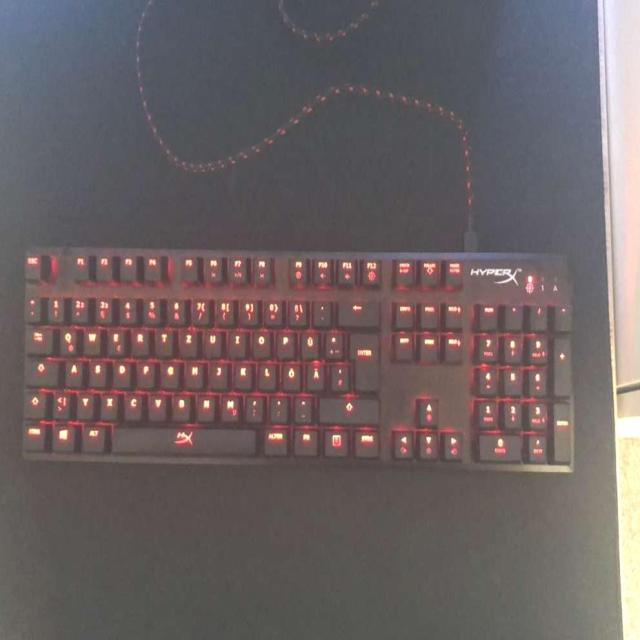0: (262, 294, 283, 324)
1: (45, 292, 63, 320)
2: (68, 292, 87, 321)
3: (93, 293, 111, 321)
4: (117, 293, 136, 321)
5: (141, 293, 160, 322)
6: (165, 293, 185, 322)
7: (189, 294, 210, 323)
8: (213, 295, 234, 323)
9: (237, 295, 257, 323)
a: (63, 356, 82, 385)
accent: (311, 296, 330, 324)
ae: (305, 358, 323, 388)
alt-left: (79, 420, 105, 449)
altgr-right: (261, 424, 287, 454)
b: (170, 389, 190, 418)
c: (122, 388, 141, 418)
caret: (23, 294, 39, 319)
comma: (243, 391, 263, 421)
d: (111, 357, 130, 386)
del: (336, 294, 378, 324)
e: (104, 323, 124, 354)
enter: (348, 329, 377, 389)
f: (135, 357, 153, 385)
g: (159, 357, 178, 385)
h: (183, 357, 203, 386)
hash: (328, 360, 347, 389)
i: (226, 326, 246, 354)
j: (207, 357, 227, 386)
k: (232, 358, 252, 386)
keyboard: (13, 244, 581, 474)
l: (256, 359, 275, 388)
less: (51, 387, 71, 416)
m: (219, 390, 239, 420)
minus: (292, 391, 311, 420)
n: (194, 390, 215, 419)
o: (250, 326, 270, 355)
oe: (280, 360, 300, 388)
p: (274, 327, 294, 356)
plus: (323, 327, 341, 356)
point: (268, 391, 286, 419)
q: (57, 323, 76, 353)
r: (129, 324, 149, 354)
s: (86, 355, 106, 385)
shift-left: (21, 388, 45, 415)
shift-lock: (22, 357, 58, 385)
shift-right: (317, 395, 377, 421)
space: (108, 424, 255, 453)
ss: (287, 295, 307, 324)
strg-left: (19, 419, 44, 448)
strg-right: (351, 426, 378, 456)
t: (152, 324, 172, 354)
tab: (22, 323, 52, 352)
u: (202, 325, 222, 354)
ue: (299, 327, 318, 356)
v: (146, 389, 166, 418)
w: (81, 323, 99, 353)
x: (99, 388, 117, 417)
y: (75, 388, 92, 416)
z: (177, 324, 197, 354)
